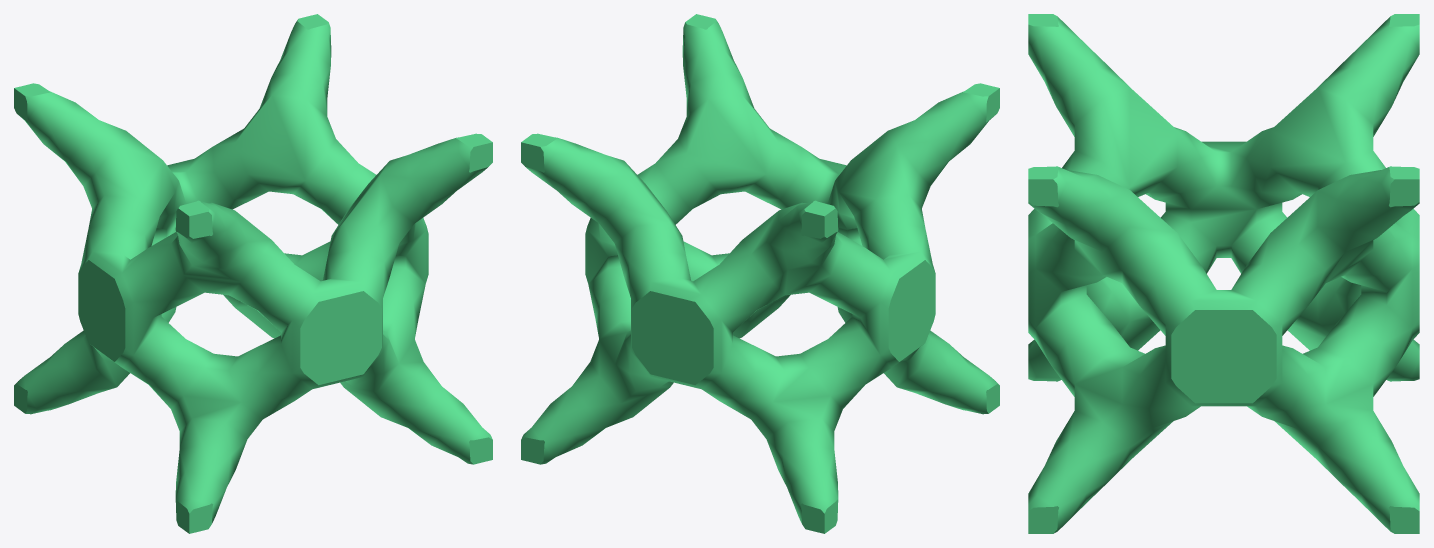
Rendered from Variation3.glb.
The picture shows the model from 3 angles, left to right: view 1: azimuth 30°, elevation 25°; view 2: azimuth 150°, elevation 25°; view 3: azimuth 270°, elevation 25°; orthographic projection. The views are drawn at different scales.
Visible parts, largest first — view 1: Mesh_0.016; view 2: Mesh_0.016; view 3: Mesh_0.016.
Part boxes in pixels (<box>): Mesh_0.016: <box>14,14,492,533</box>; Mesh_0.016: <box>521,14,999,533</box>; Mesh_0.016: <box>1028,14,1419,533</box>.
Size of the model in its own units: 1 by 1 by 1.
